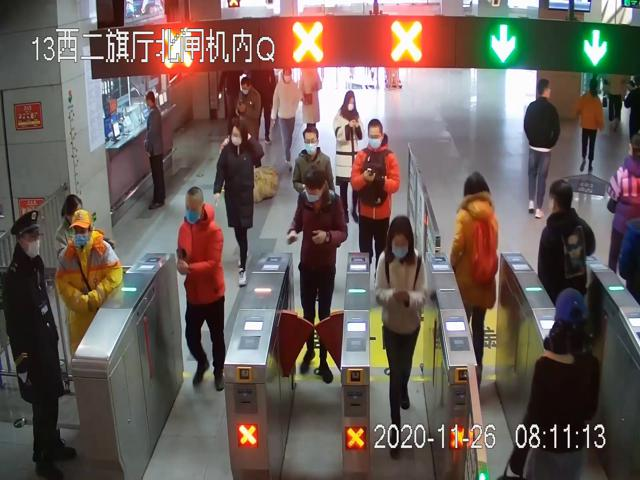person: (3, 210, 76, 480), (375, 215, 428, 459), (287, 172, 347, 382), (449, 171, 499, 397), (176, 188, 230, 392), (54, 211, 123, 359), (212, 119, 261, 288), (524, 77, 559, 223), (334, 91, 365, 223), (141, 89, 167, 211), (271, 69, 301, 170)
